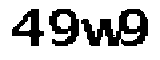4: (9, 5, 47, 49)
9: (46, 5, 82, 49), (121, 7, 149, 52)
w: (82, 16, 120, 50)
